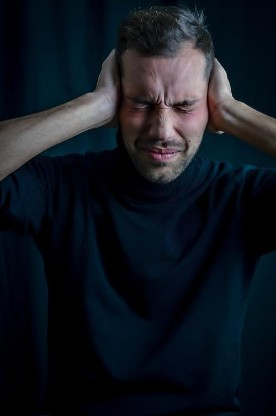闭眼: (127, 96, 149, 116), (172, 103, 199, 118)
